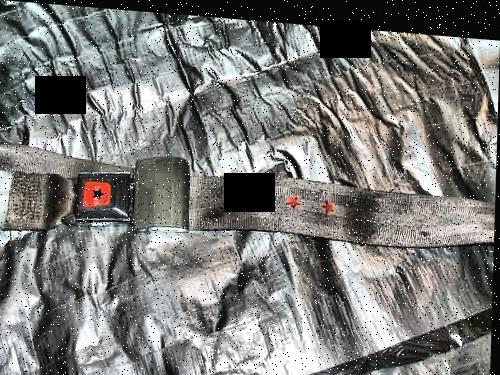seatbelt: (42, 129, 491, 260)
